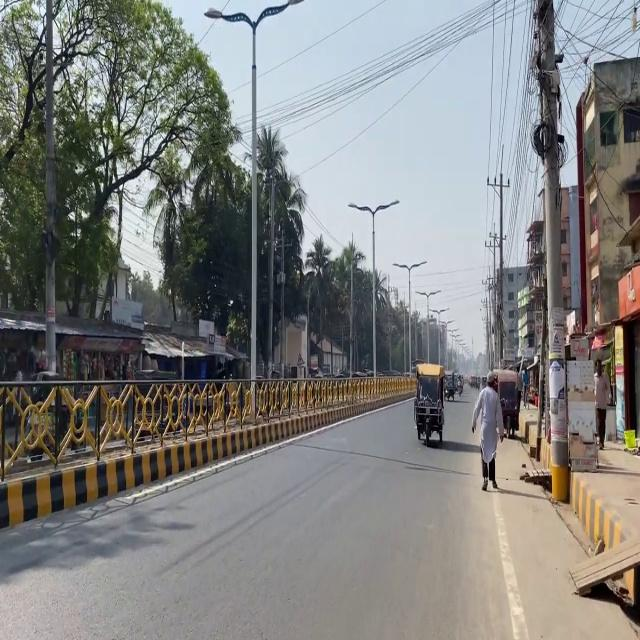Construction-barrier: (26, 444, 212, 502), (490, 488, 529, 638), (564, 494, 640, 558)
Fallen-tree: (443, 374, 455, 401)
Garbage-bin: (471, 371, 505, 490), (593, 359, 611, 450)
Light-pole: (529, 0, 570, 500), (42, 0, 58, 374)
Pole: (0, 362, 242, 522)
Traffic-cone: (412, 362, 445, 447)
